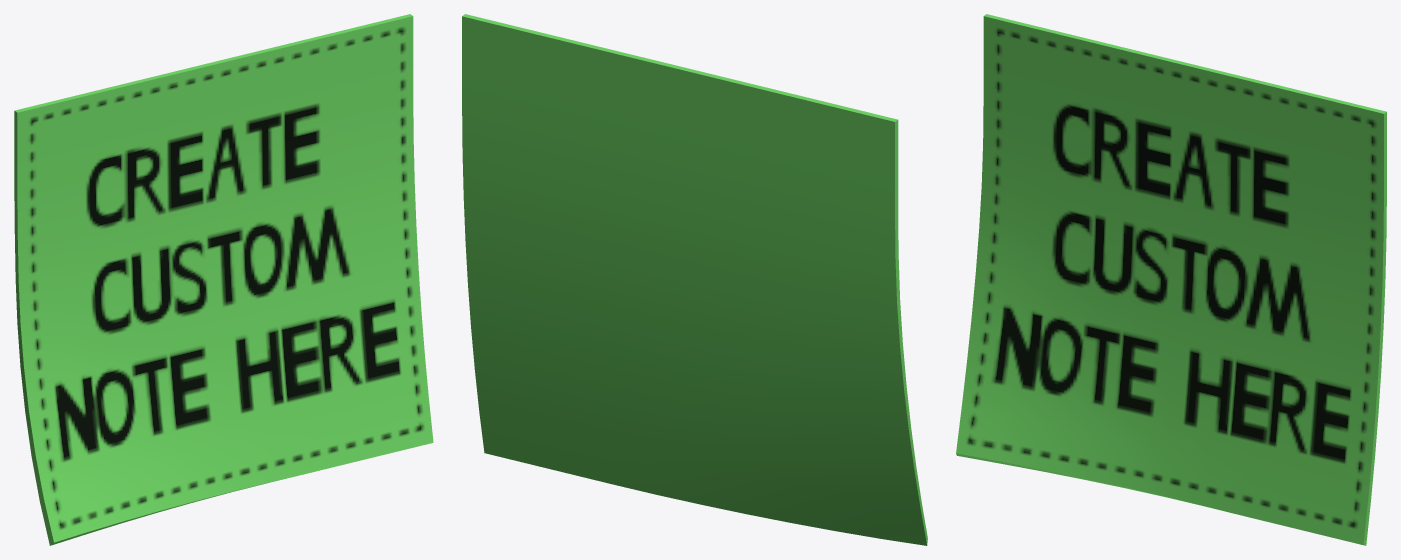
Rendered from SM_Note_Custom_01.fbx.
The picture shows the model from 3 angles, left to right: view 1: azimuth 30°, elevation 25°; view 2: azimuth 150°, elevation 25°; view 3: azimuth 330°, elevation 25°; orthographic projection. The views are drawn at different scales.
Parts seen in each view (by area): view 1: SM_Note_Custom_01; view 2: SM_Note_Custom_01; view 3: SM_Note_Custom_01.
Boxes of the visible parts, bbox=[...] form: SM_Note_Custom_01: bbox=[14, 14, 433, 545]; SM_Note_Custom_01: bbox=[462, 14, 927, 545]; SM_Note_Custom_01: bbox=[956, 14, 1386, 545].
Bounding box in the file's own units: 50.27 × 50.14 × 7.65.
